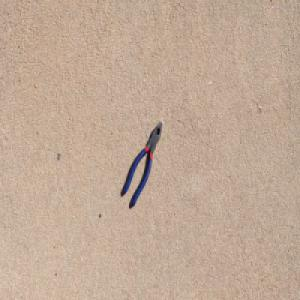Pliers: (121, 120, 163, 209)
